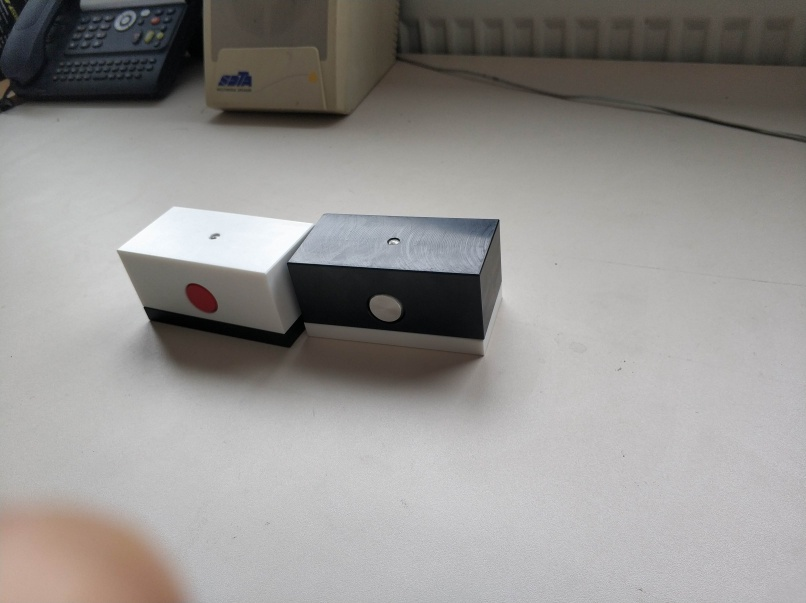black+white+red: (114, 204, 313, 352)
white+black+silver: (285, 212, 505, 353)
